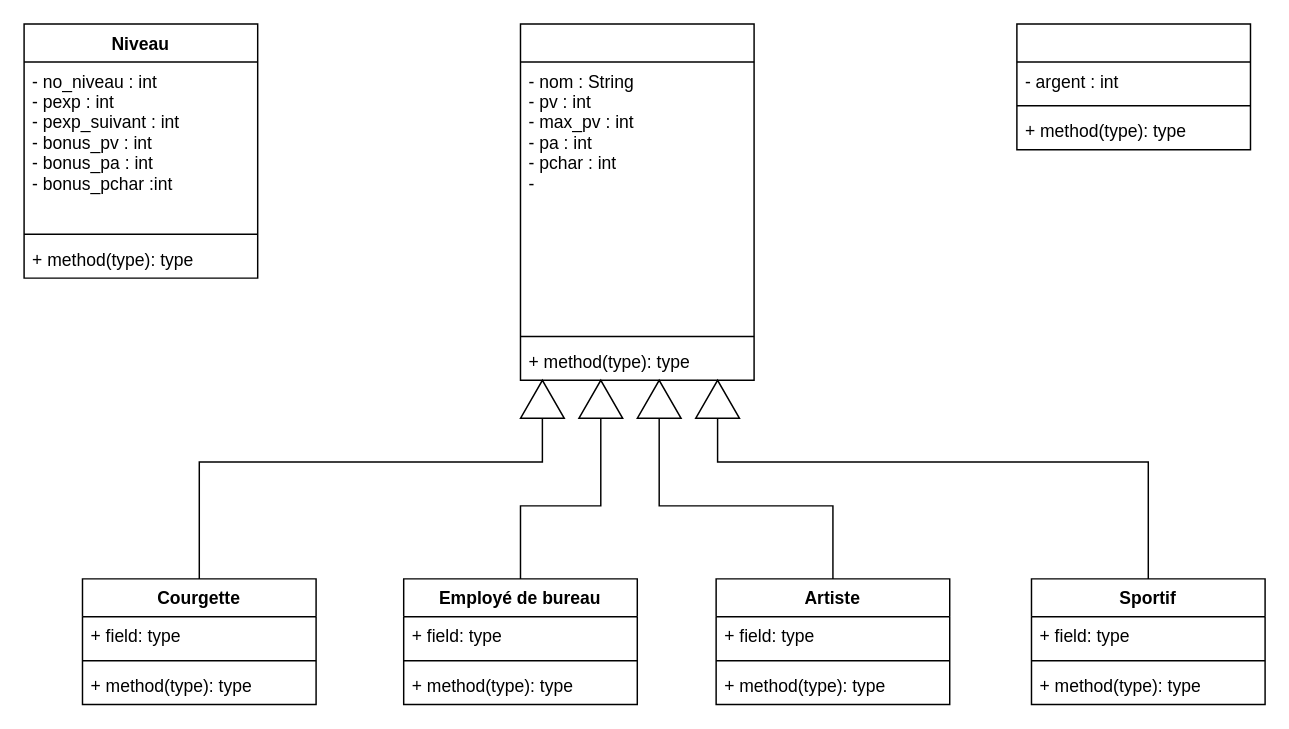
The diagram is 1289 pixels wide and 729 high, and some of its shapes have lost their labels. Each missing label, with the box of its shape:
Inventaire: (1015, 23, 1250, 150)
Personnage: (519, 23, 754, 380)
